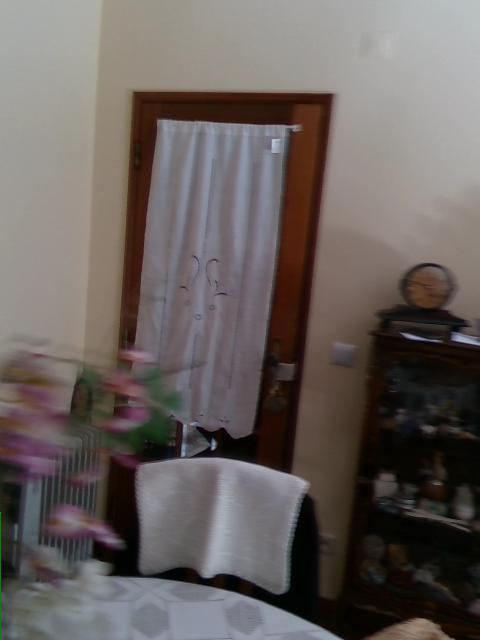door: (103, 87, 334, 528)
